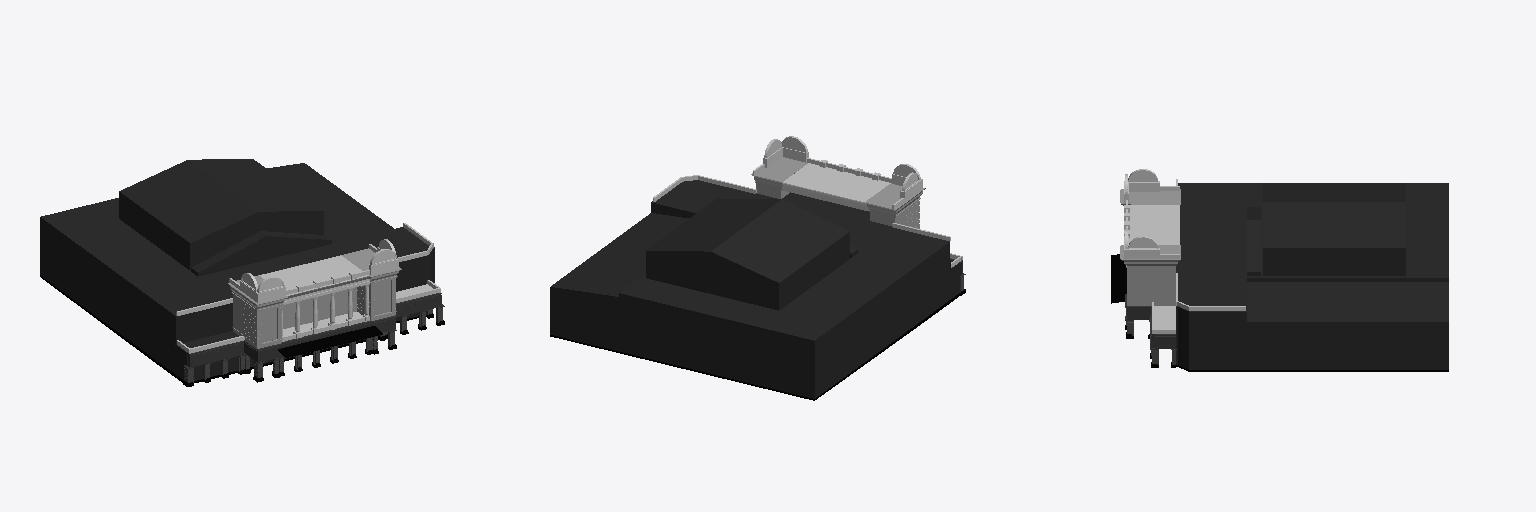
The model's file is municipal2.obj.
The picture shows the model from 3 angles: view 1: azimuth 30°, elevation 25°; view 2: azimuth 150°, elevation 25°; view 3: azimuth 270°, elevation 25°; orthographic projection.
Parts seen in each view (by area): view 1: Cube.038_Cube.005, Cube.053_Cube.008, Cube.069_Cube.014, Cube.054_Cube.008, Cube.068_Cube.013, Cube.040_Cube.006, Cube.071_Cube.016, Cube.074_Cube.016; view 2: Cube.038_Cube.005, Cube.069_Cube.014, Cube.053_Cube.008, Cube.054_Cube.008, Cube.074_Cube.016; view 3: Cube.038_Cube.005, Cube.054_Cube.008, Cube.069_Cube.014, Cube.053_Cube.008, Cube.040_Cube.006, Cube.073_Cube.016, Cube.072_Cube.016.
Boxes of the visible parts, <box> form: Cube.038_Cube.005: <box>40,159,434,382</box>; Cube.053_Cube.008: <box>228,275,287,348</box>; Cube.069_Cube.014: <box>259,255,369,304</box>; Cube.054_Cube.008: <box>341,248,401,320</box>; Cube.068_Cube.013: <box>282,287,356,328</box>; Cube.040_Cube.006: <box>278,326,382,357</box>; Cube.071_Cube.016: <box>256,276,285,302</box>; Cube.074_Cube.016: <box>369,249,398,274</box>; Cube.038_Cube.005: <box>550,180,961,400</box>; Cube.069_Cube.014: <box>782,163,890,210</box>; Cube.053_Cube.008: <box>865,183,925,228</box>; Cube.054_Cube.008: <box>751,157,807,198</box>; Cube.074_Cube.016: <box>781,136,808,162</box>; Cube.038_Cube.005: <box>1176,183,1448,371</box>; Cube.054_Cube.008: <box>1120,245,1180,305</box>; Cube.069_Cube.014: <box>1124,205,1179,244</box>; Cube.053_Cube.008: <box>1120,189,1180,205</box>; Cube.040_Cube.006: <box>1111,254,1126,303</box>; Cube.073_Cube.016: <box>1127,236,1159,258</box>; Cube.072_Cube.016: <box>1128,169,1159,191</box>.
Bounding box in the file's own units: 15.79 × 5.86 × 17.4.